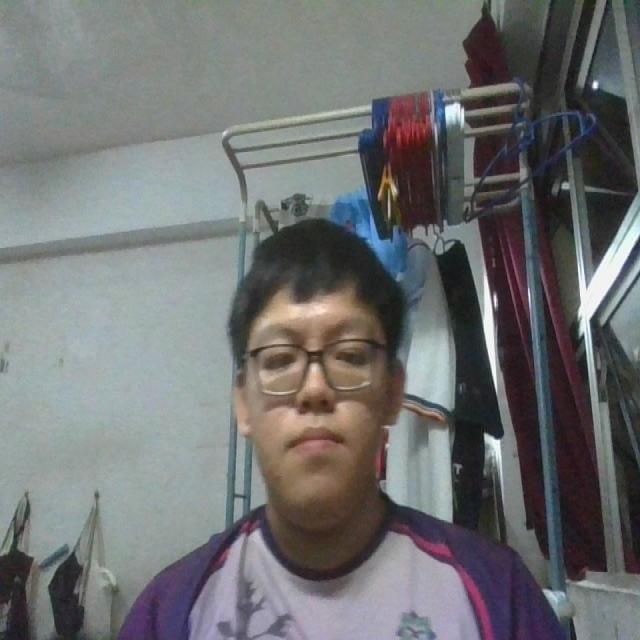person_without_labcoat: (118, 219, 562, 639)
